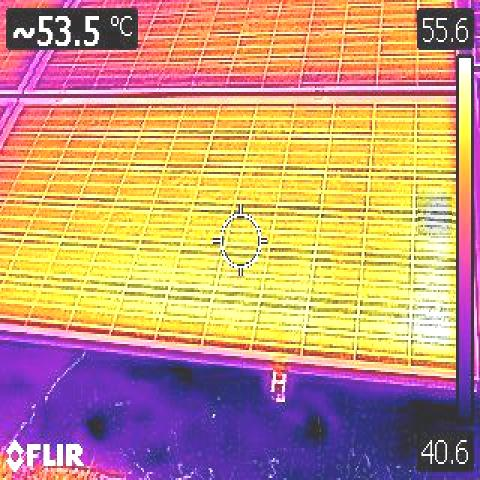fault: (419, 196, 452, 236)
